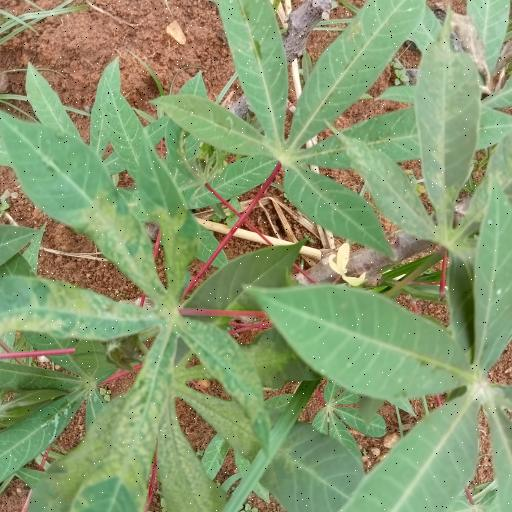Cassava_Mosaic: (0, 106, 273, 512), (158, 1, 512, 253)
